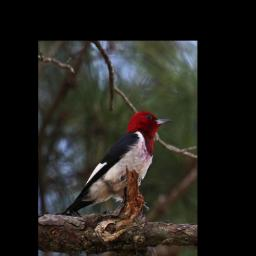Woodpecker: (55, 109, 175, 216)
